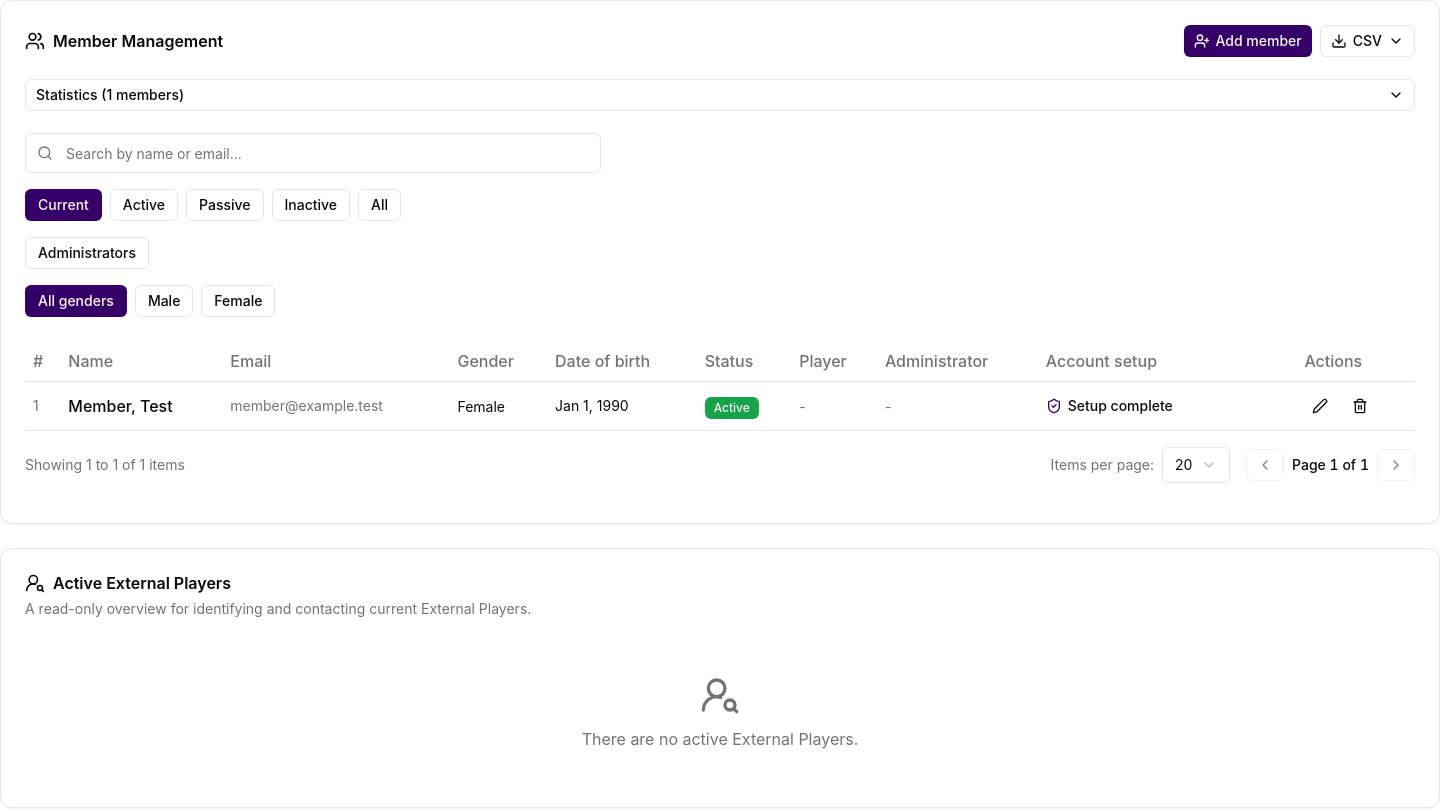
Scenario: MemberCenter member projection › does not present a previous cohort when a key-changing request fails
This screenshot has width=1440, height=810.
Check: the text "Member, Test" is shown, box [68, 396, 173, 416]
Click the button "Administrators". click: (87, 253)
box: [25, 237, 149, 269]
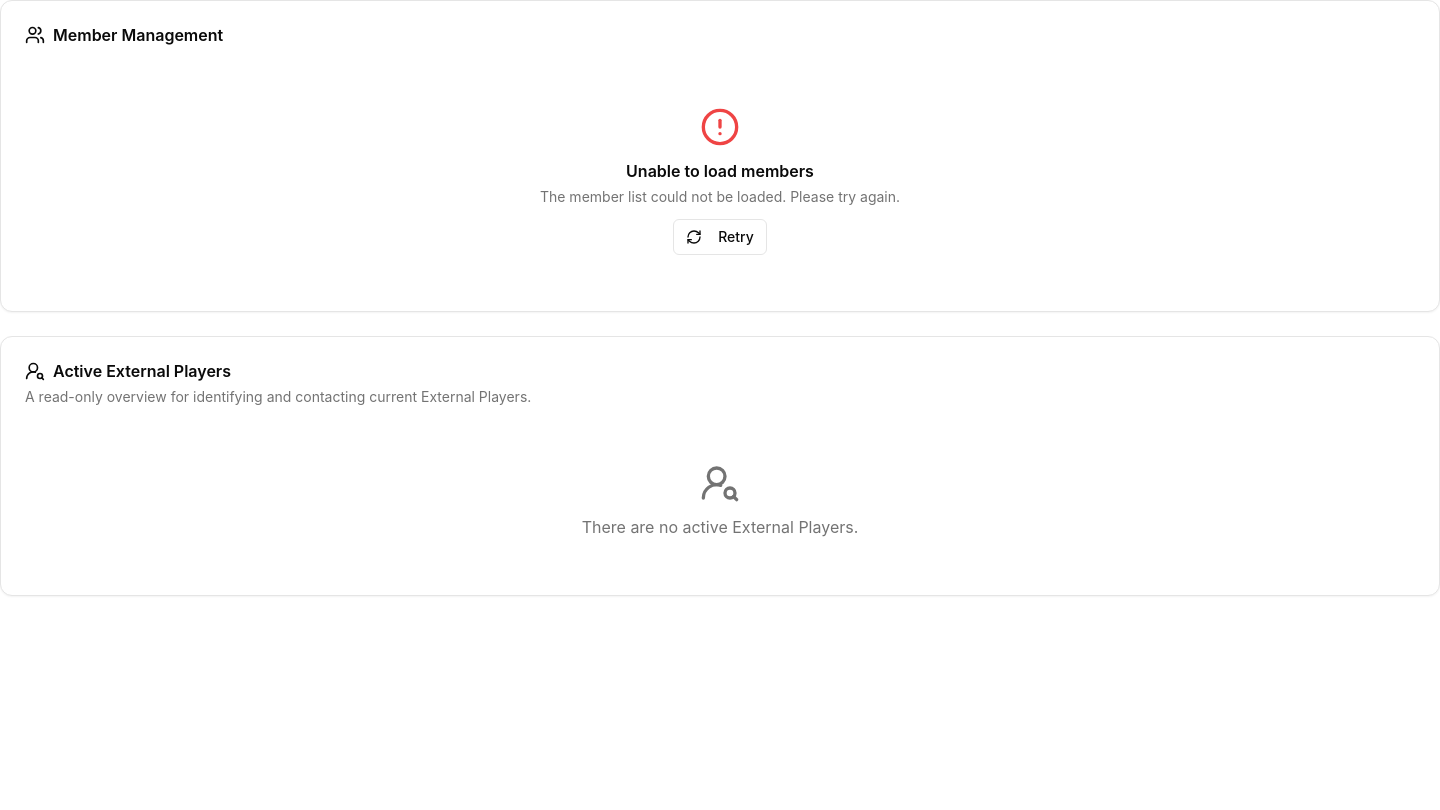
Check: the message shows "Unable to load members", box [626, 161, 814, 181]
Check: the text "Member, Test" is gone
Check: the button "Retry" is enabled, box [673, 219, 767, 255]
